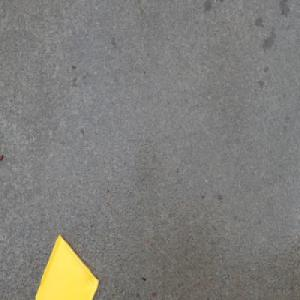PlasticPart: (34, 233, 99, 300)
